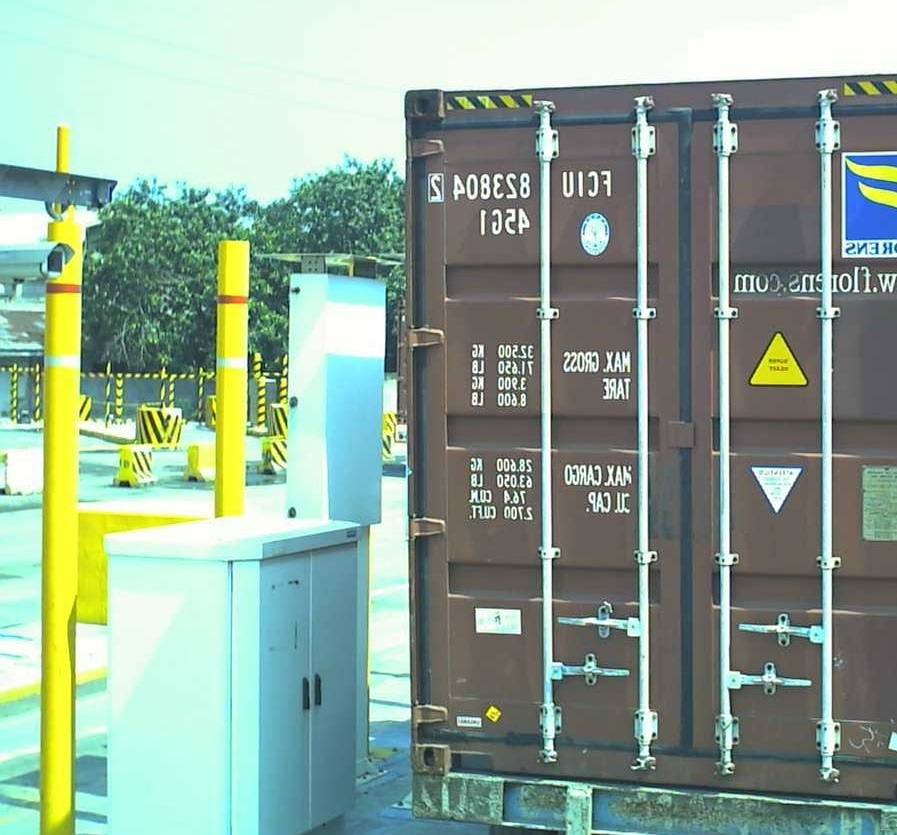container_door: (411, 74, 895, 784)
